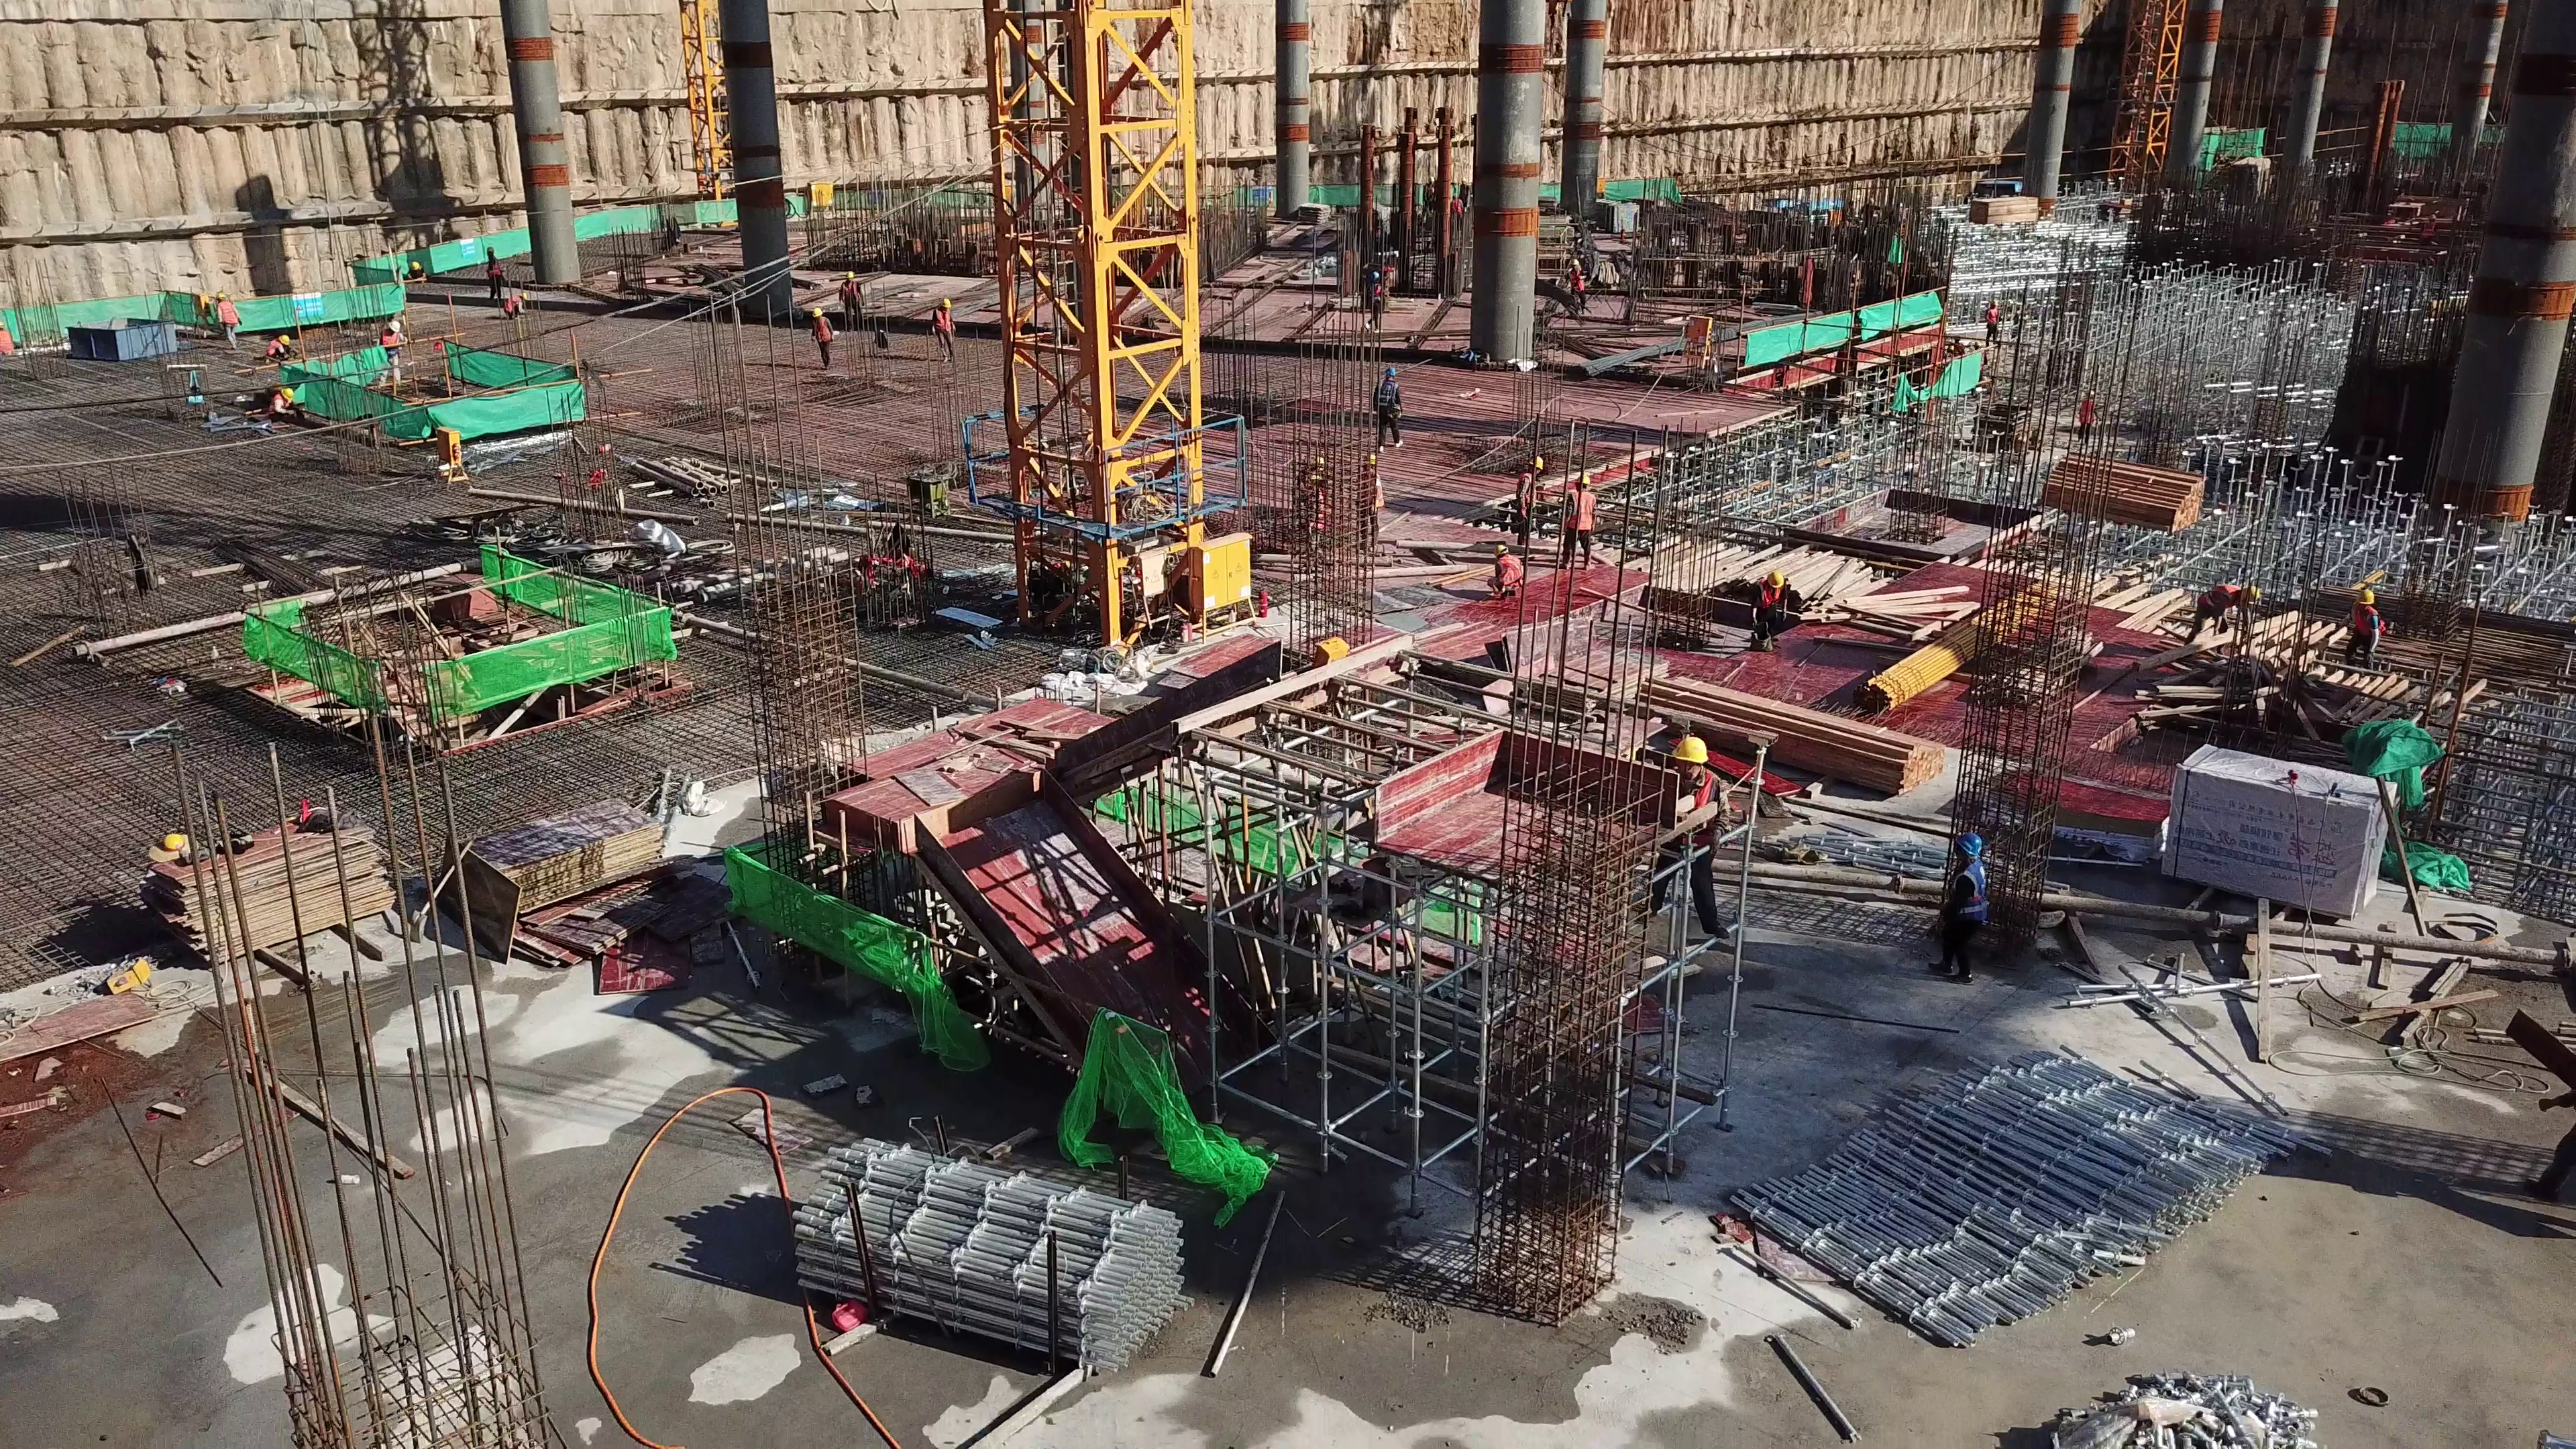helmet: (1671, 738, 1708, 763), (1954, 832, 1980, 856), (158, 833, 182, 851), (1767, 572, 1785, 588), (2357, 590, 2374, 605), (1531, 455, 1547, 471), (280, 385, 294, 402), (2247, 586, 2261, 601), (277, 333, 290, 346), (1492, 545, 1507, 556), (1576, 475, 1591, 484), (409, 261, 420, 271), (390, 320, 400, 333), (813, 307, 823, 318), (845, 270, 855, 280), (941, 297, 950, 308), (1385, 368, 1395, 376), (521, 292, 527, 300), (217, 293, 225, 300), (2430, 215, 2436, 220)
person: (1640, 736, 1730, 943), (1926, 833, 1985, 986), (2184, 584, 2254, 641), (1560, 475, 1597, 570), (1750, 572, 1790, 639), (2348, 592, 2382, 666), (1374, 368, 1405, 453), (1515, 457, 1543, 544), (374, 321, 410, 385), (1360, 456, 1384, 549), (1489, 545, 1523, 598), (839, 270, 865, 332), (931, 298, 956, 362), (215, 292, 242, 348), (810, 307, 833, 368), (1363, 268, 1381, 334), (267, 386, 299, 421), (1568, 260, 1589, 312), (2078, 388, 2099, 441), (485, 246, 503, 303), (1986, 298, 2000, 348), (266, 334, 292, 360), (503, 292, 529, 318), (1, 321, 13, 354), (407, 260, 425, 281)
vest: (1672, 767, 1711, 835), (1948, 861, 1984, 920), (2196, 586, 2243, 608), (2350, 603, 2382, 635), (1571, 491, 1591, 533), (1756, 579, 1780, 608), (1497, 556, 1521, 582), (1379, 380, 1395, 410), (813, 317, 832, 341), (218, 302, 238, 322), (841, 280, 859, 301), (382, 328, 402, 347), (268, 395, 287, 414), (936, 309, 950, 331), (1, 330, 12, 352), (506, 296, 518, 315), (2082, 400, 2092, 421), (1571, 271, 1582, 290), (2423, 221, 2434, 237), (270, 339, 278, 356), (488, 258, 500, 271), (1450, 198, 1460, 212), (1987, 308, 1997, 321)
